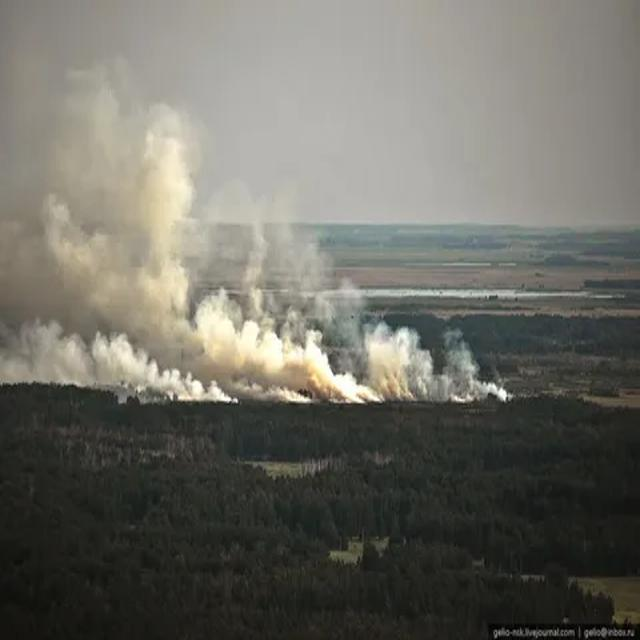Smoke: (1, 37, 514, 402)
